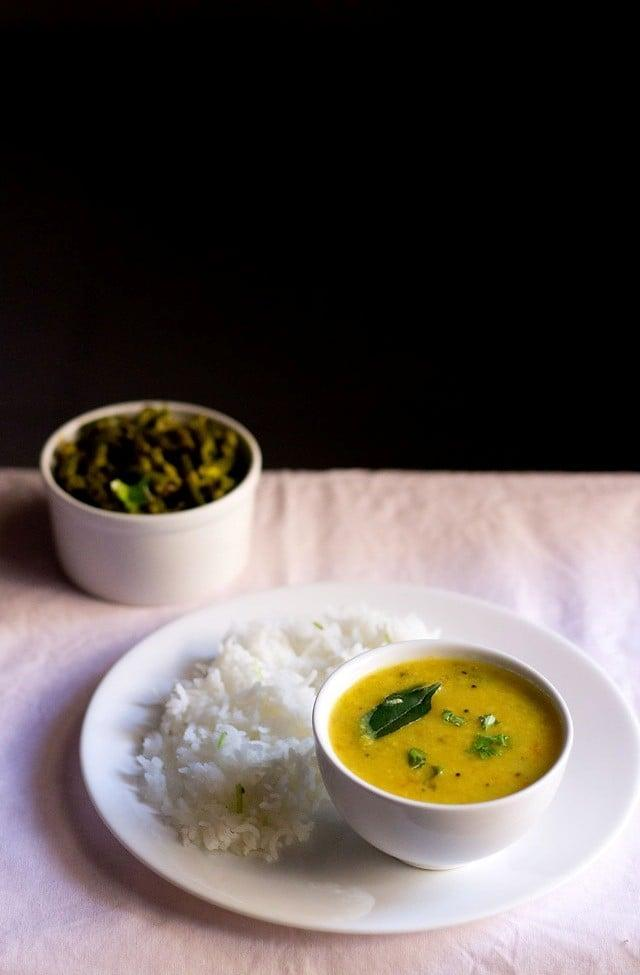aloo sabji: (58, 408, 257, 521)
rice: (128, 613, 355, 876)
varan: (358, 658, 555, 803)
